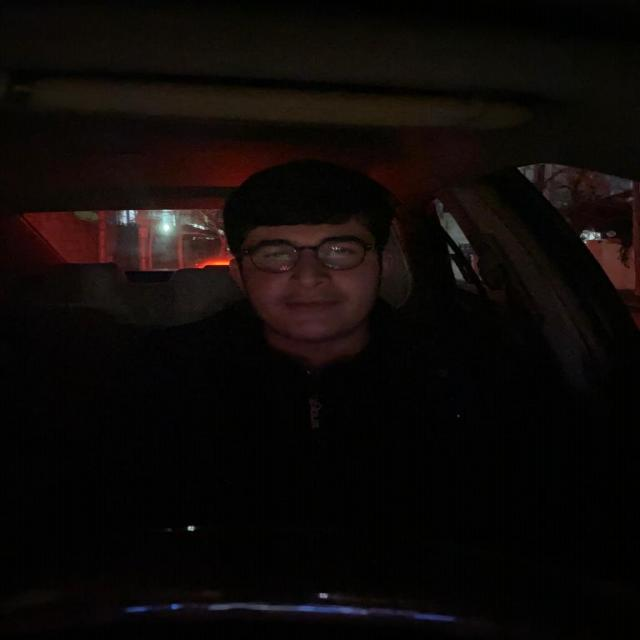person: (216, 156, 414, 355)
